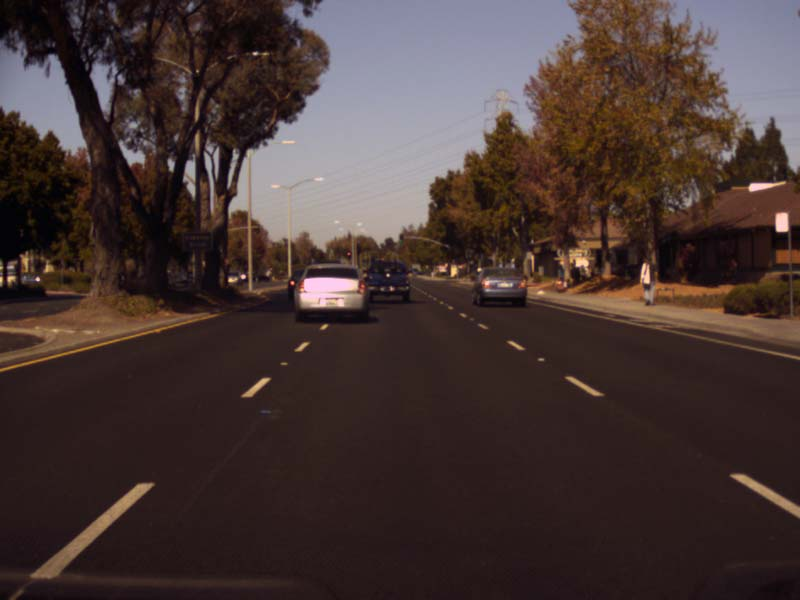Green: (399, 234, 404, 243)
Yellow: (346, 247, 351, 258)
